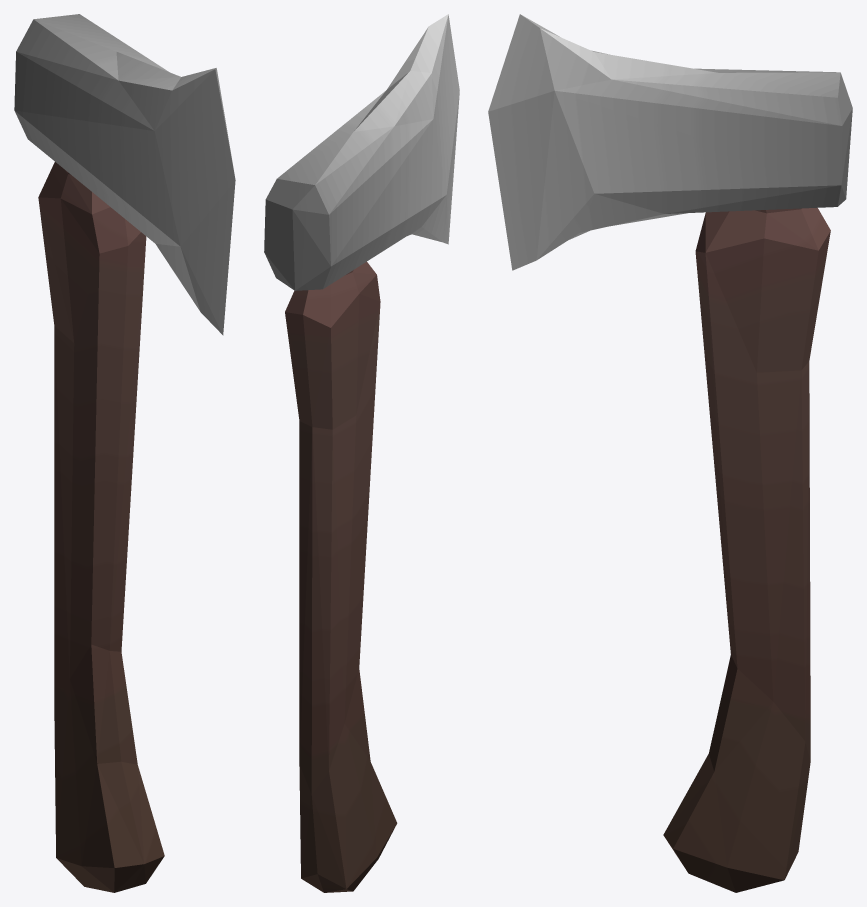
Rendered from Axe.fbx.
3 views of the same model, side by side, from view 1: azimuth 30°, elevation 25°; view 2: azimuth 150°, elevation 25°; view 3: azimuth 270°, elevation 25° (orthographic). The views are drawn at different scales.
Parts seen in each view (by area): view 1: Axe; view 2: Axe; view 3: Axe.
Boxes of the visible parts, box(x1,y1,x2,y2) form: Axe: box(14, 14, 235, 892); Axe: box(264, 14, 459, 892); Axe: box(488, 14, 852, 892).
Bounding box in the file's own units: 16.28 × 185 × 70.38.
